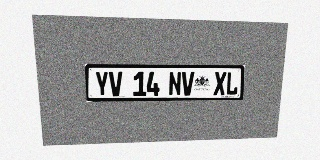1: (133, 72, 146, 96)
4: (147, 72, 160, 96)
L: (226, 72, 239, 95)
N: (169, 72, 181, 96)
V: (109, 71, 123, 96), (181, 72, 194, 96)
X: (213, 72, 226, 95)
Y: (95, 71, 109, 96)
